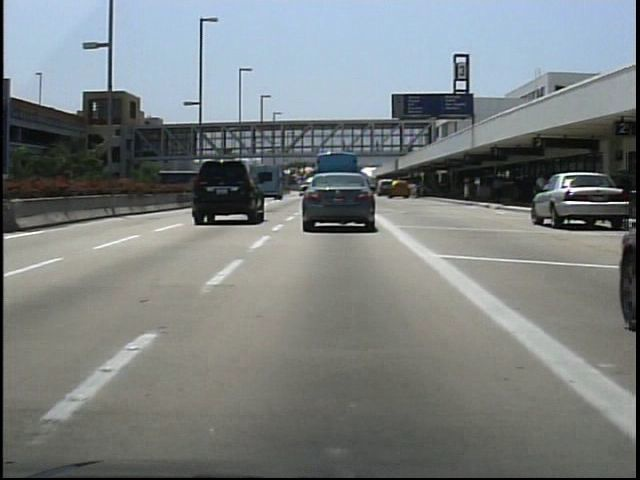person: (532, 169, 549, 210), (489, 173, 506, 206), (406, 178, 421, 205), (372, 136, 385, 158), (337, 136, 351, 156)
